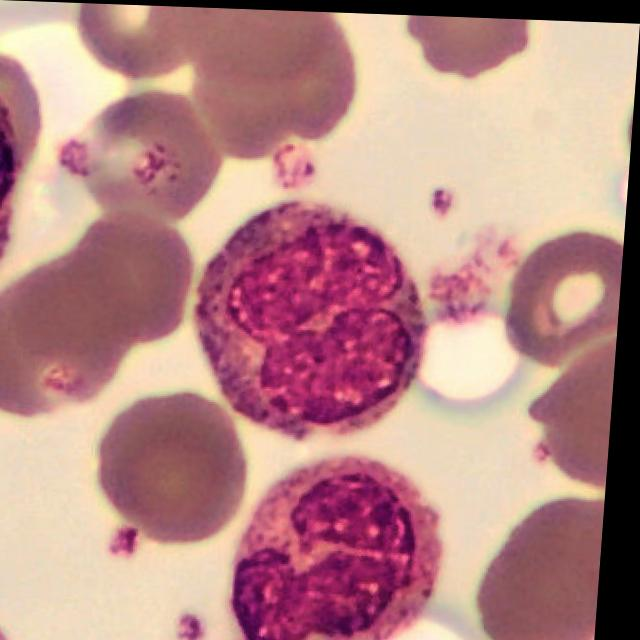Bastonete: (202, 202, 428, 436), (242, 458, 447, 640)
